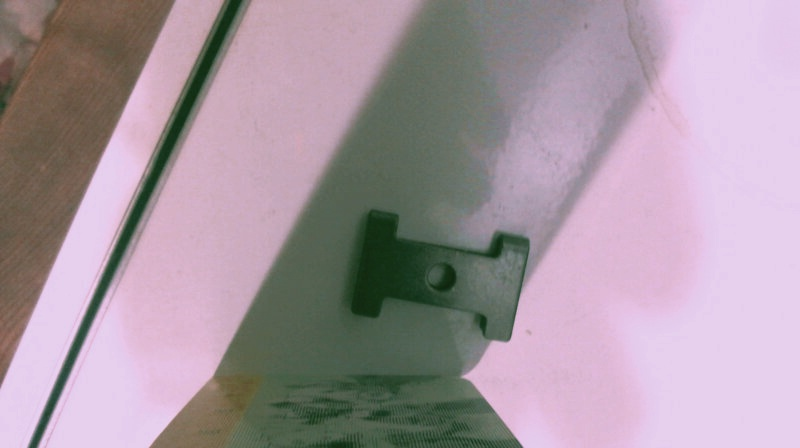O002: (348, 207, 533, 344)
